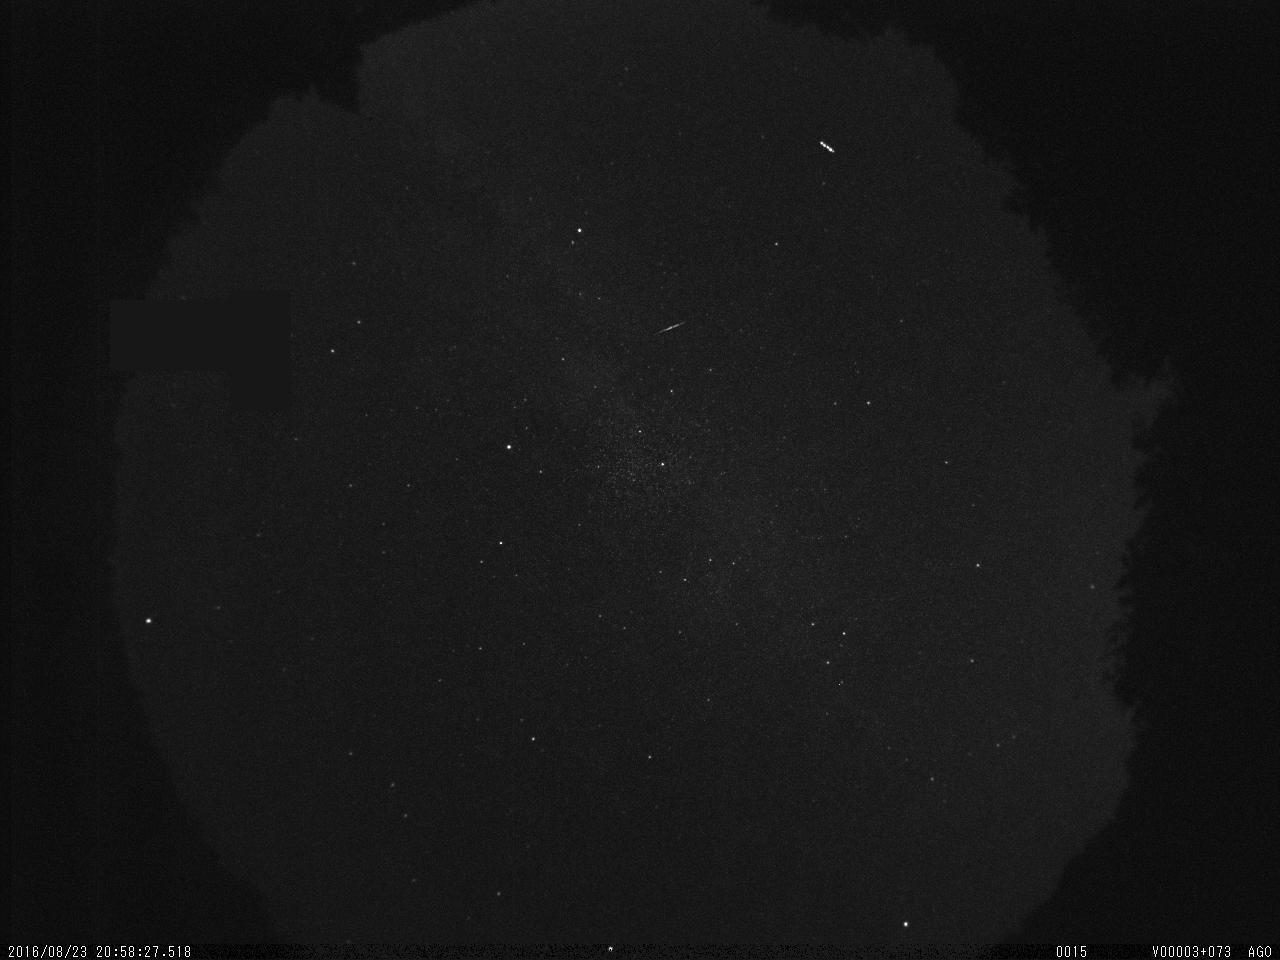meteor: (650, 313, 696, 343)
satelite: (815, 133, 839, 164)
